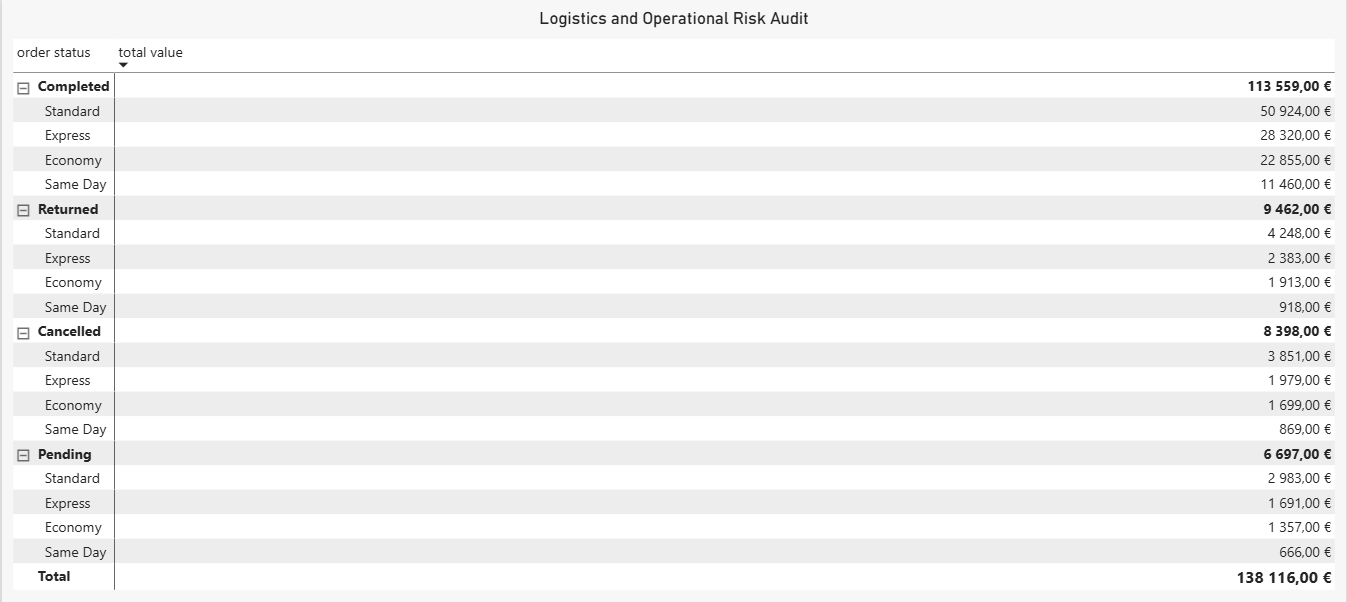

What the dashboard file says about the page in this screenshot:
{"tool":"powerbi","page":{"name":"Strona 2","canvas":[1920,1080],"ordinal":1},"visuals":[{"type":"pivotTable","title":"Logistics and Operational Risk Audit","fields":{"Rows":["vw_order_fulfillment_status_202609261038.order_status","vw_order_fulfillment_status_202609261038.shipping_method"],"Values":["Sum(vw_order_fulfillment_status_202609261038.total_orders)"]},"box":[0,0,1920,1080],"z":0}]}

Visuals, with their boxes on the page's 1920x1080 design canvas (x1, y1, x2, y2). These are canvas units, not pixel positions in the 1347x602 screenshot, which may show the page scaled, cropped or inside an application window:
"Logistics and Operational Risk Audit" pivotTable: box(0, 0, 1920, 1080)
